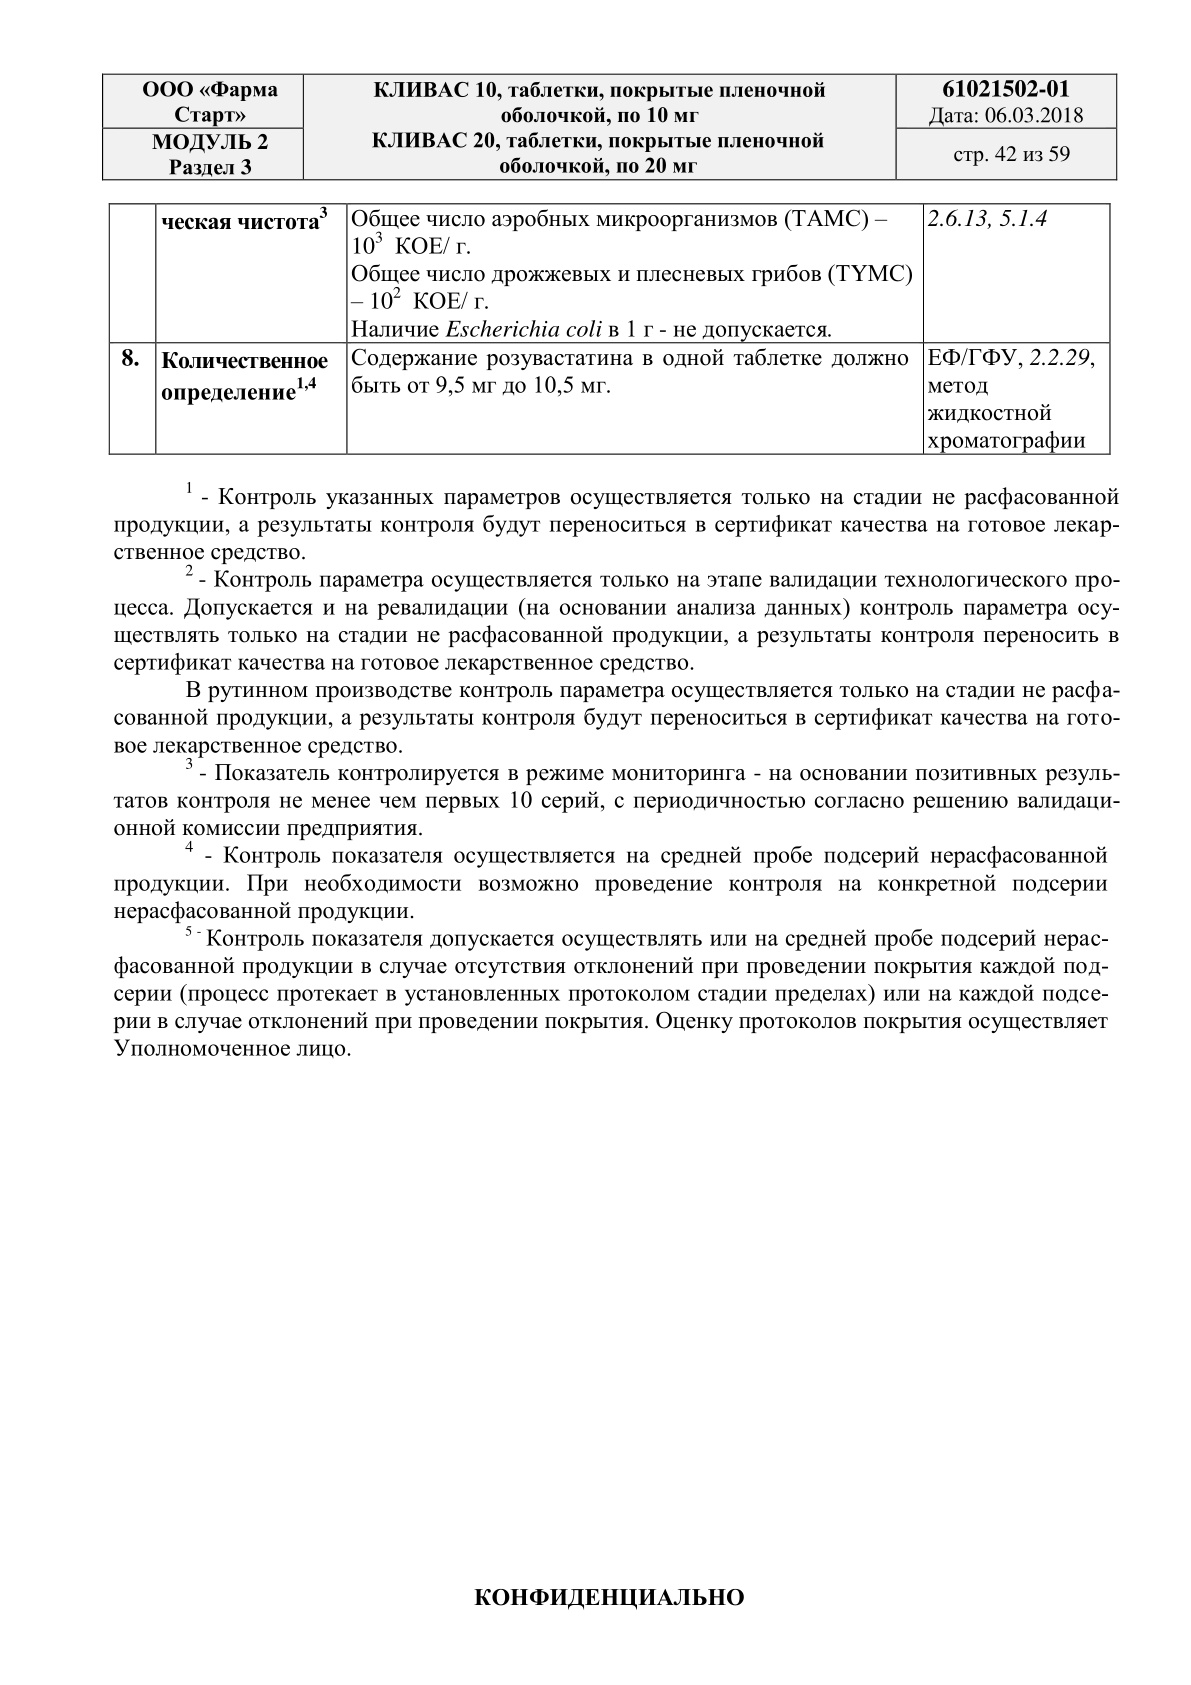full_lined: (108, 202, 1112, 455)
merged_cells: (101, 72, 1118, 180)
